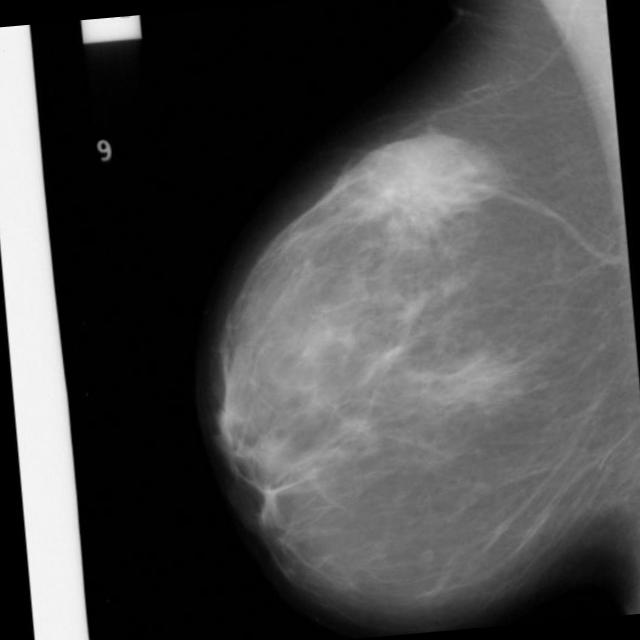ARCH: (370, 177, 454, 260)
